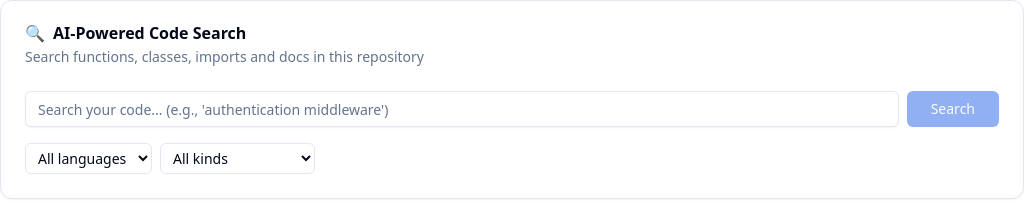
SearchInterface suggestions › opens after the debounce
In the dropdown named "search query": coordinates (462, 109) [25,91,899,127], type "deb"
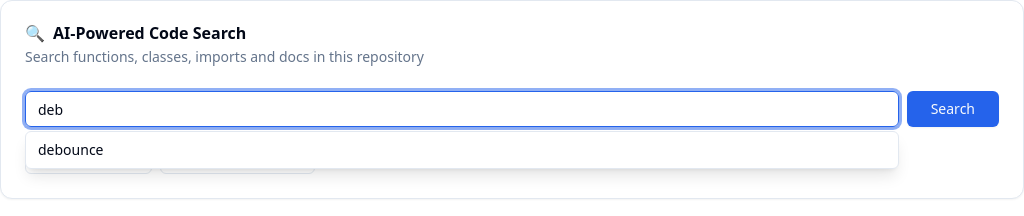
Result: the list is shown at [25,131,899,169]
